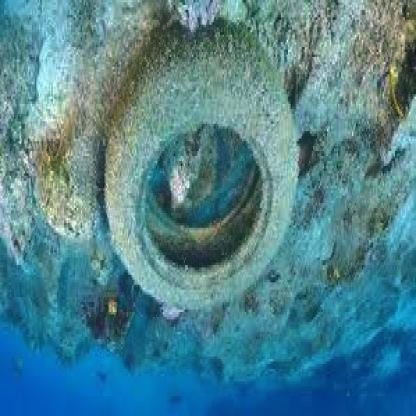tire: (94, 27, 298, 324)
